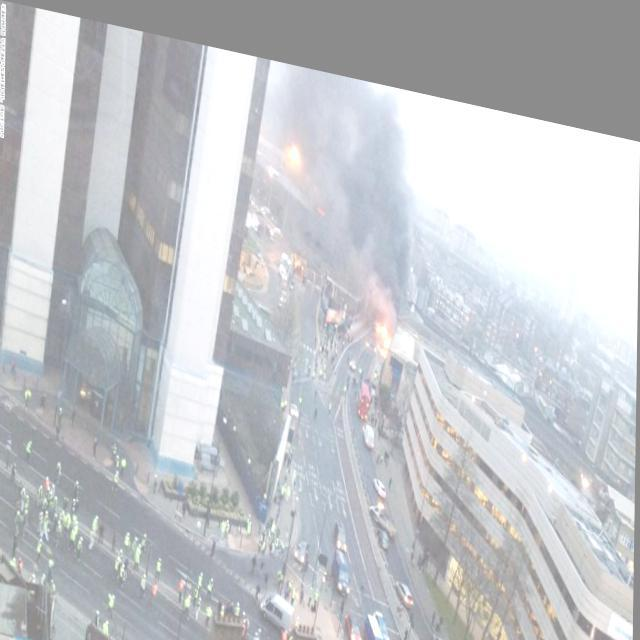Fire: (280, 122, 308, 164), (372, 298, 396, 345)
